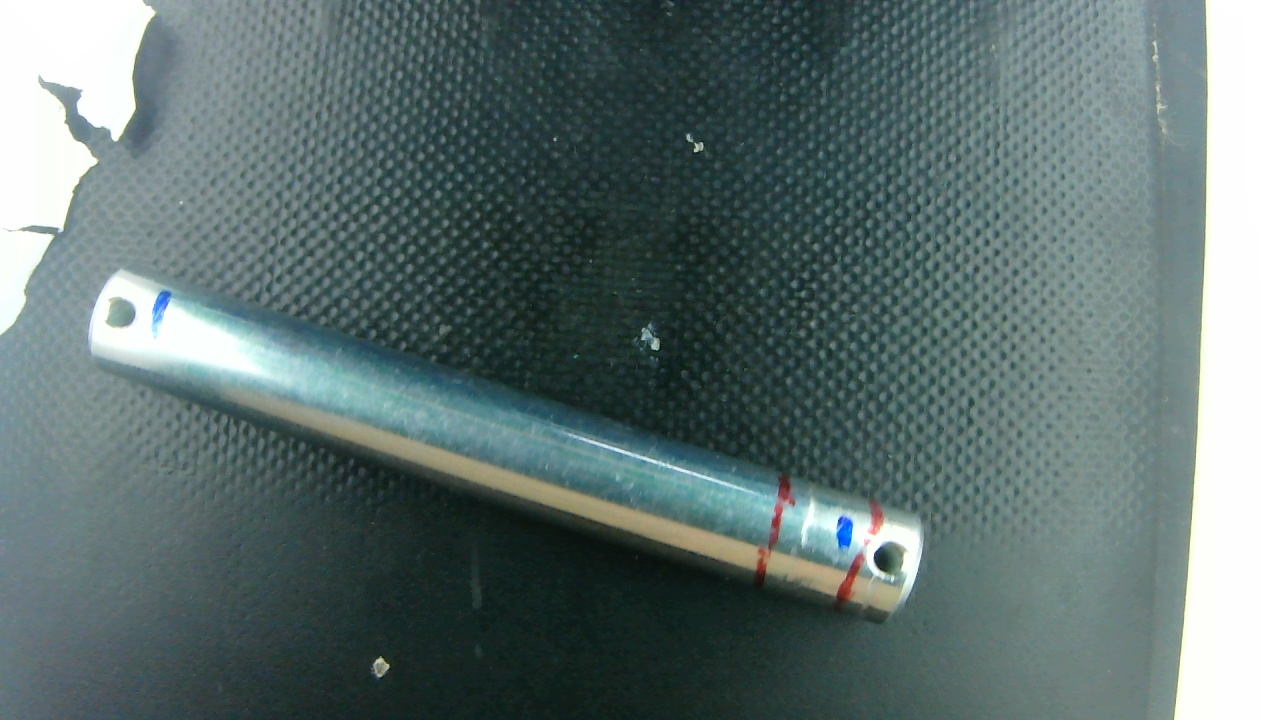odlinemark_pin: (794, 481, 825, 567)
